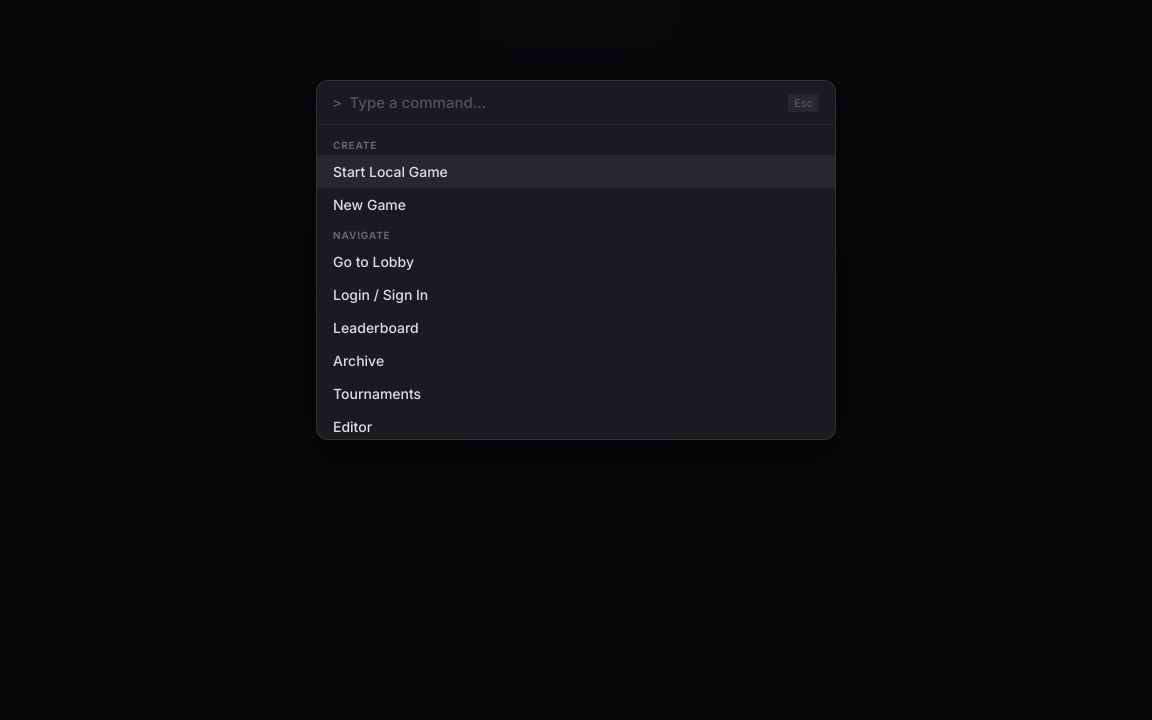
Test case: CommandPalette › search filtering › filters commands by query
This screenshot has width=1152, height=720.
Type "Lobby" into the field with placeholder "Type a command...".
click(565, 102); type("Lobby")  # box top-left (349, 93), bottom-right (780, 112)
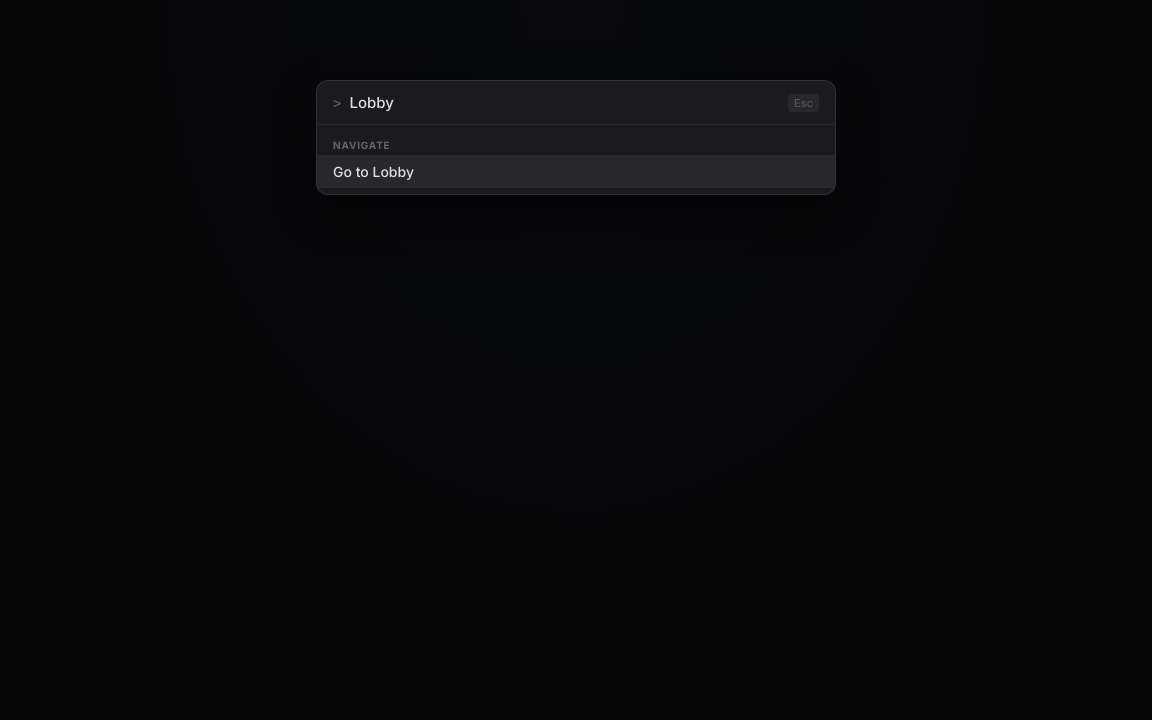
Expected: the text "Go to Lobby" is shown, top-left (317, 155), bottom-right (835, 188)
Now the text "Start Local Game" is gone
